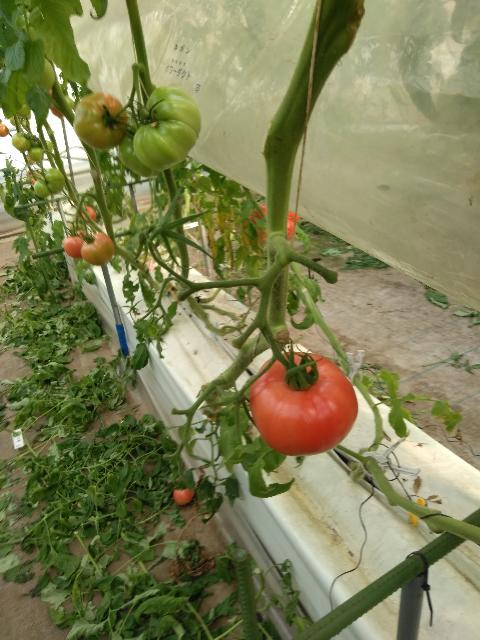b_fully_ripened: (250, 351, 359, 457), (63, 230, 92, 258)
b_green: (134, 86, 201, 171), (117, 119, 162, 178), (44, 169, 65, 193), (11, 133, 31, 153), (35, 179, 52, 198), (28, 147, 44, 161), (17, 104, 31, 117), (42, 140, 54, 153)
b_half_ripened: (74, 91, 128, 150), (81, 233, 115, 266), (173, 485, 194, 506), (0, 124, 10, 138)
